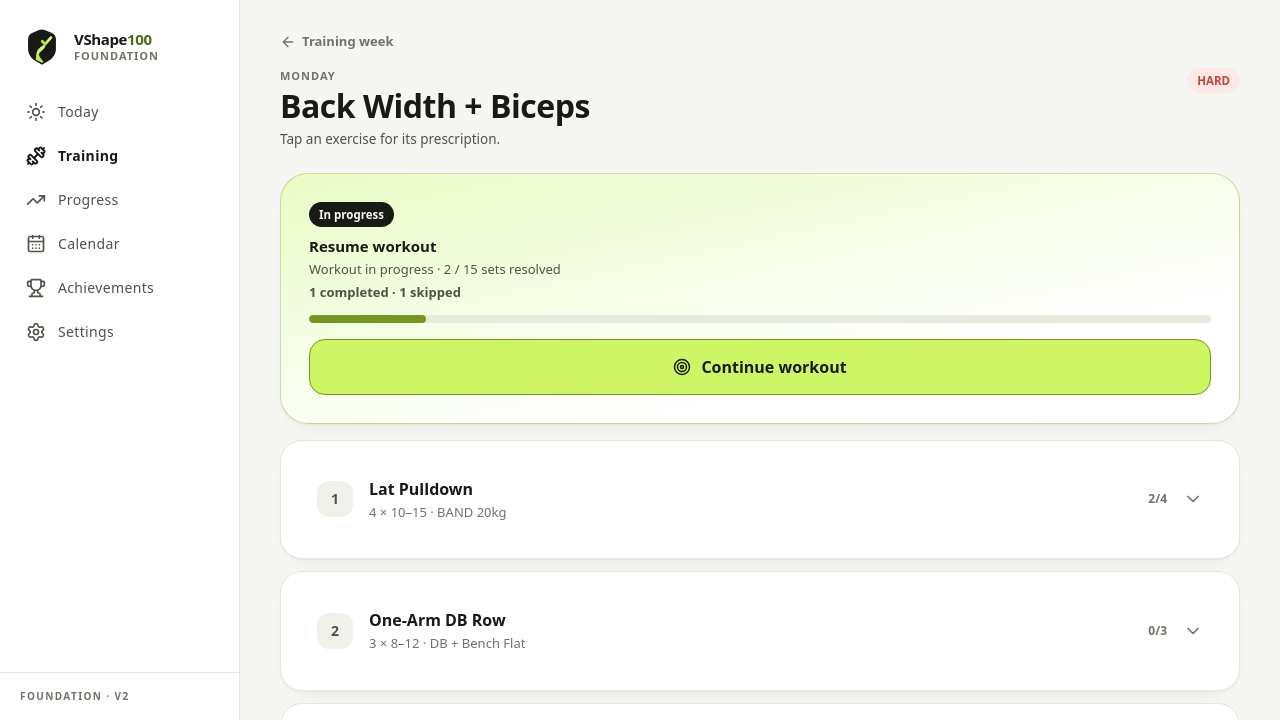
Test case: 1. the opening exercise is derived, never guessed › opens on the first pending SET within that exercise
Expected: the heading "Back Width + Biceps" is shown, [280,88,590,125]
Click the button "Continue workout".
click(760, 367)  # box [309,339,1211,395]
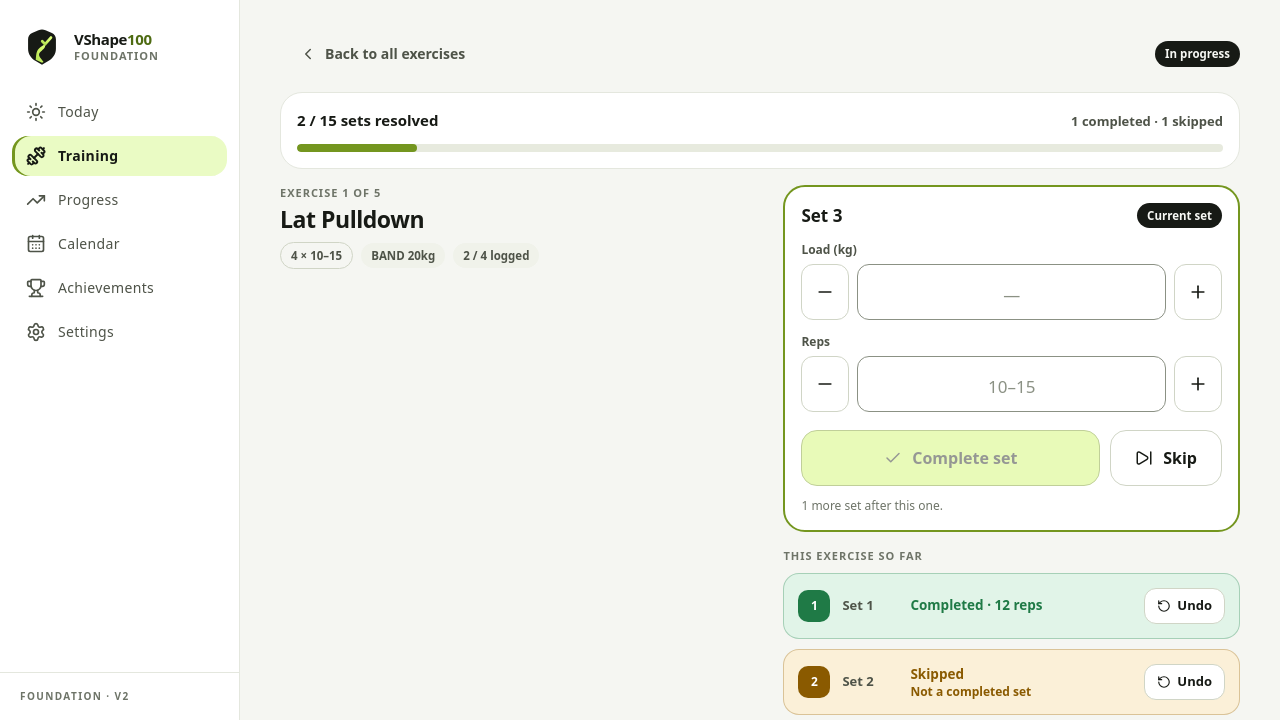
Now the text "Exercise 1 of 5" is shown, box [280,184,381,200]
Now the text "Set 3" is shown, box [801,202,842,228]
Now the text "Current set" is shown, box [1137,203,1222,228]
